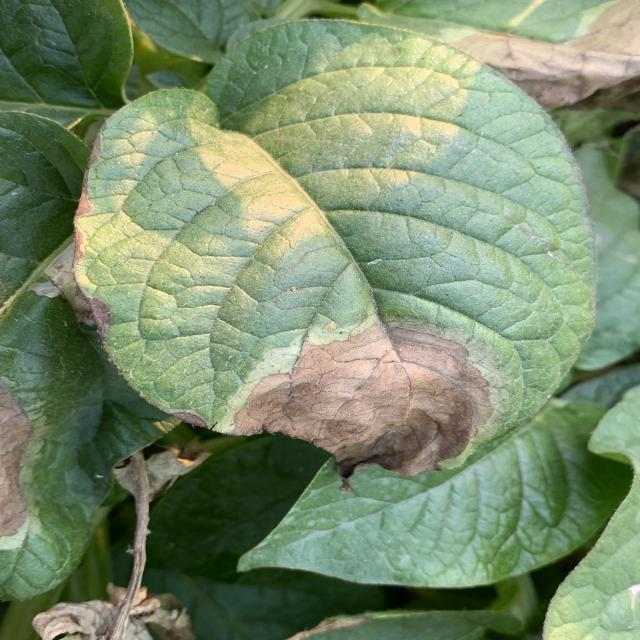lateblight: (233, 321, 490, 478)
